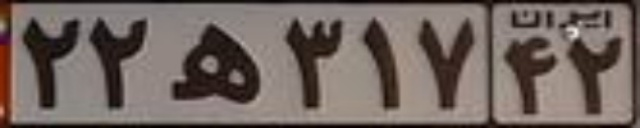1: (359, 17, 402, 109)
2: (87, 16, 148, 109), (22, 16, 77, 109), (567, 35, 627, 114)
3: (283, 16, 343, 107)
4: (502, 37, 556, 113)
7: (415, 16, 477, 109)
he: (169, 19, 262, 104)
